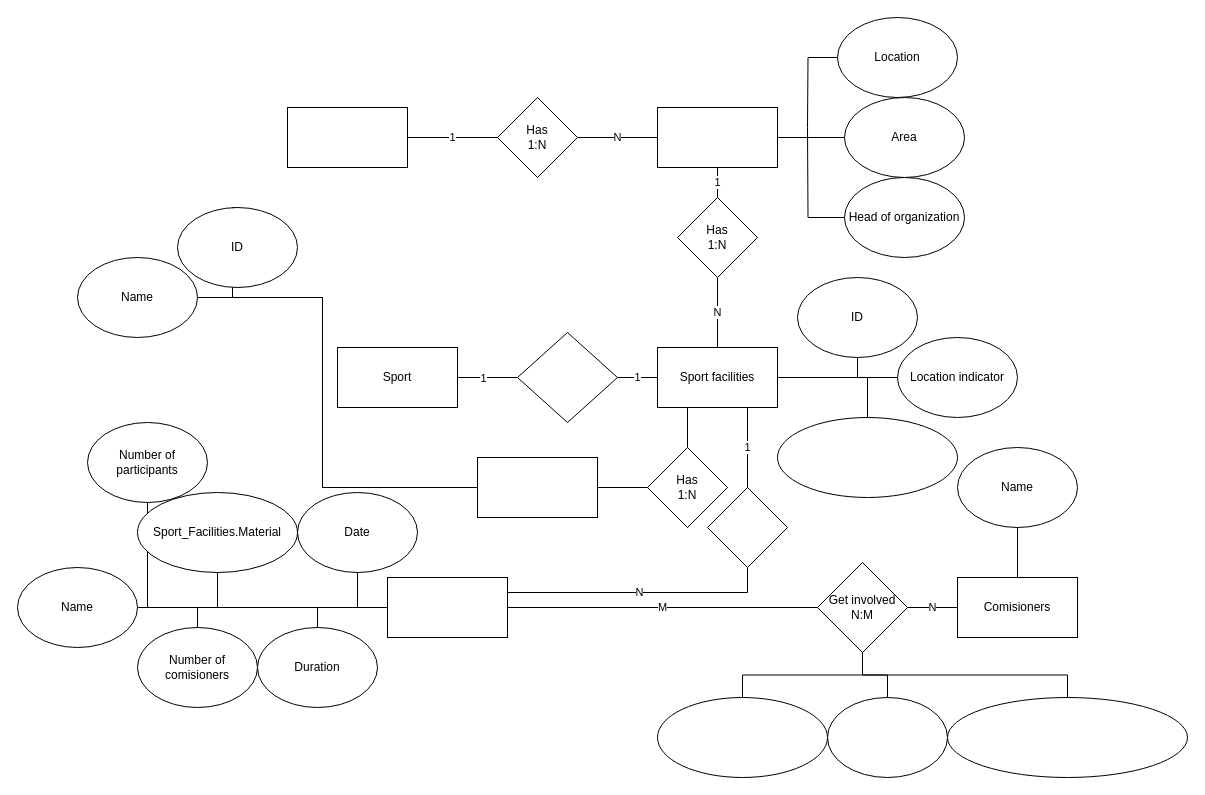
Some shapes in this 1205 by 795 pixel diagram are drawn without their labels. The shapes that lost their labels are listed below. From the top down, each one's centre as x and y in pixels, then its label:
the point at 347,137: Citie Host
the point at 717,137: Sport complexes
the point at 567,377: Is developed 1:1
the point at 867,457: Material(Equipement.Name)
the point at 537,487: Equipement
the point at 747,527: Holds 1:N
the point at 447,607: Event
the point at 742,737: Event_Name(Event.Name)
the point at 887,737: Task of comisioner
the point at 1067,737: Comisioner_Name(Comisioners.Name)
